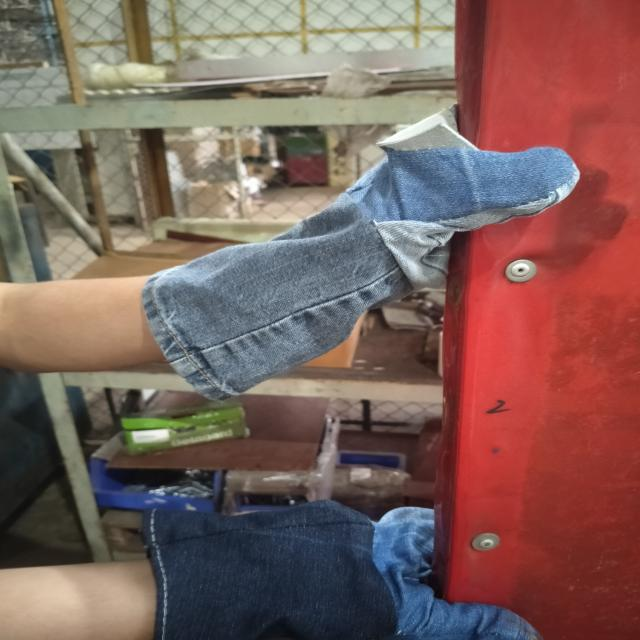Gloves-Detection: (142, 103, 570, 400), (142, 476, 532, 639)
